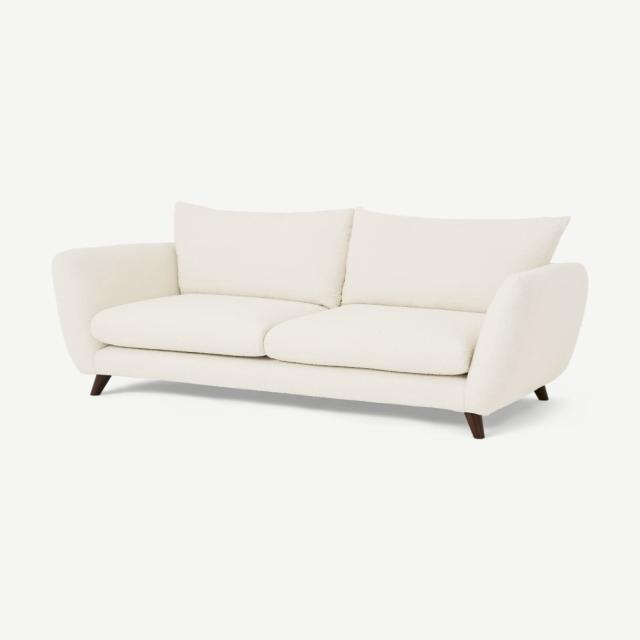Soffa: (58, 195, 587, 445)
